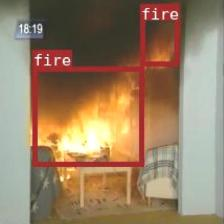fire: (32, 66, 143, 166), (140, 3, 178, 66)
